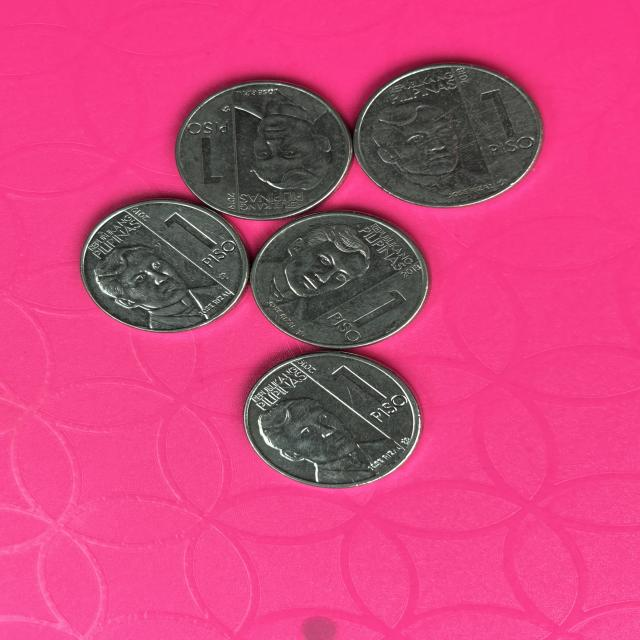1_New_Front: (324, 356, 408, 428), (327, 284, 412, 350), (474, 84, 538, 164), (156, 210, 232, 272), (185, 117, 240, 191)
